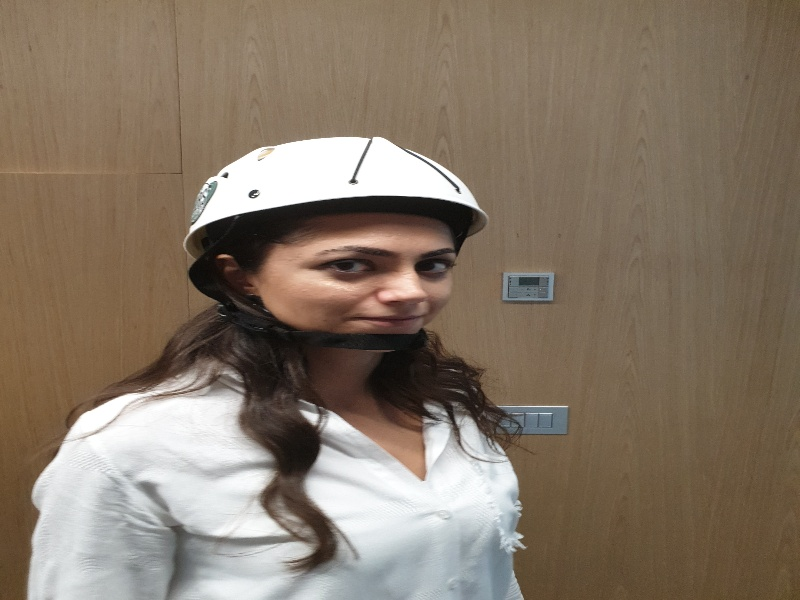Baret: (194, 137, 489, 230)
